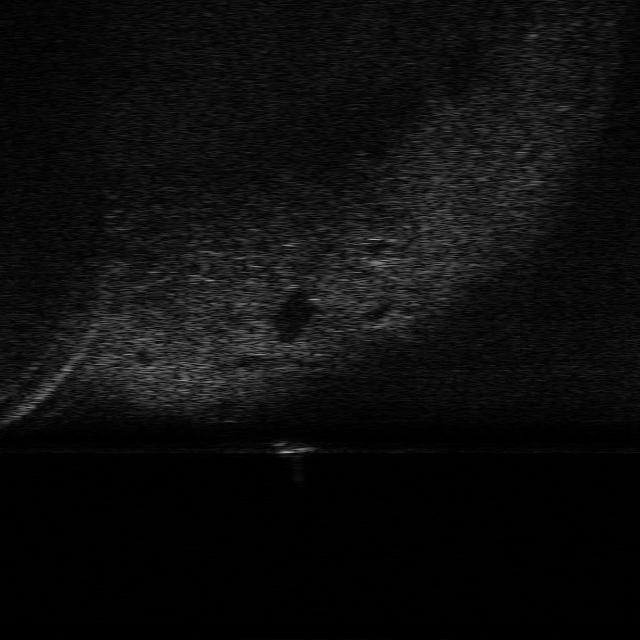cube: (271, 441, 319, 462)
